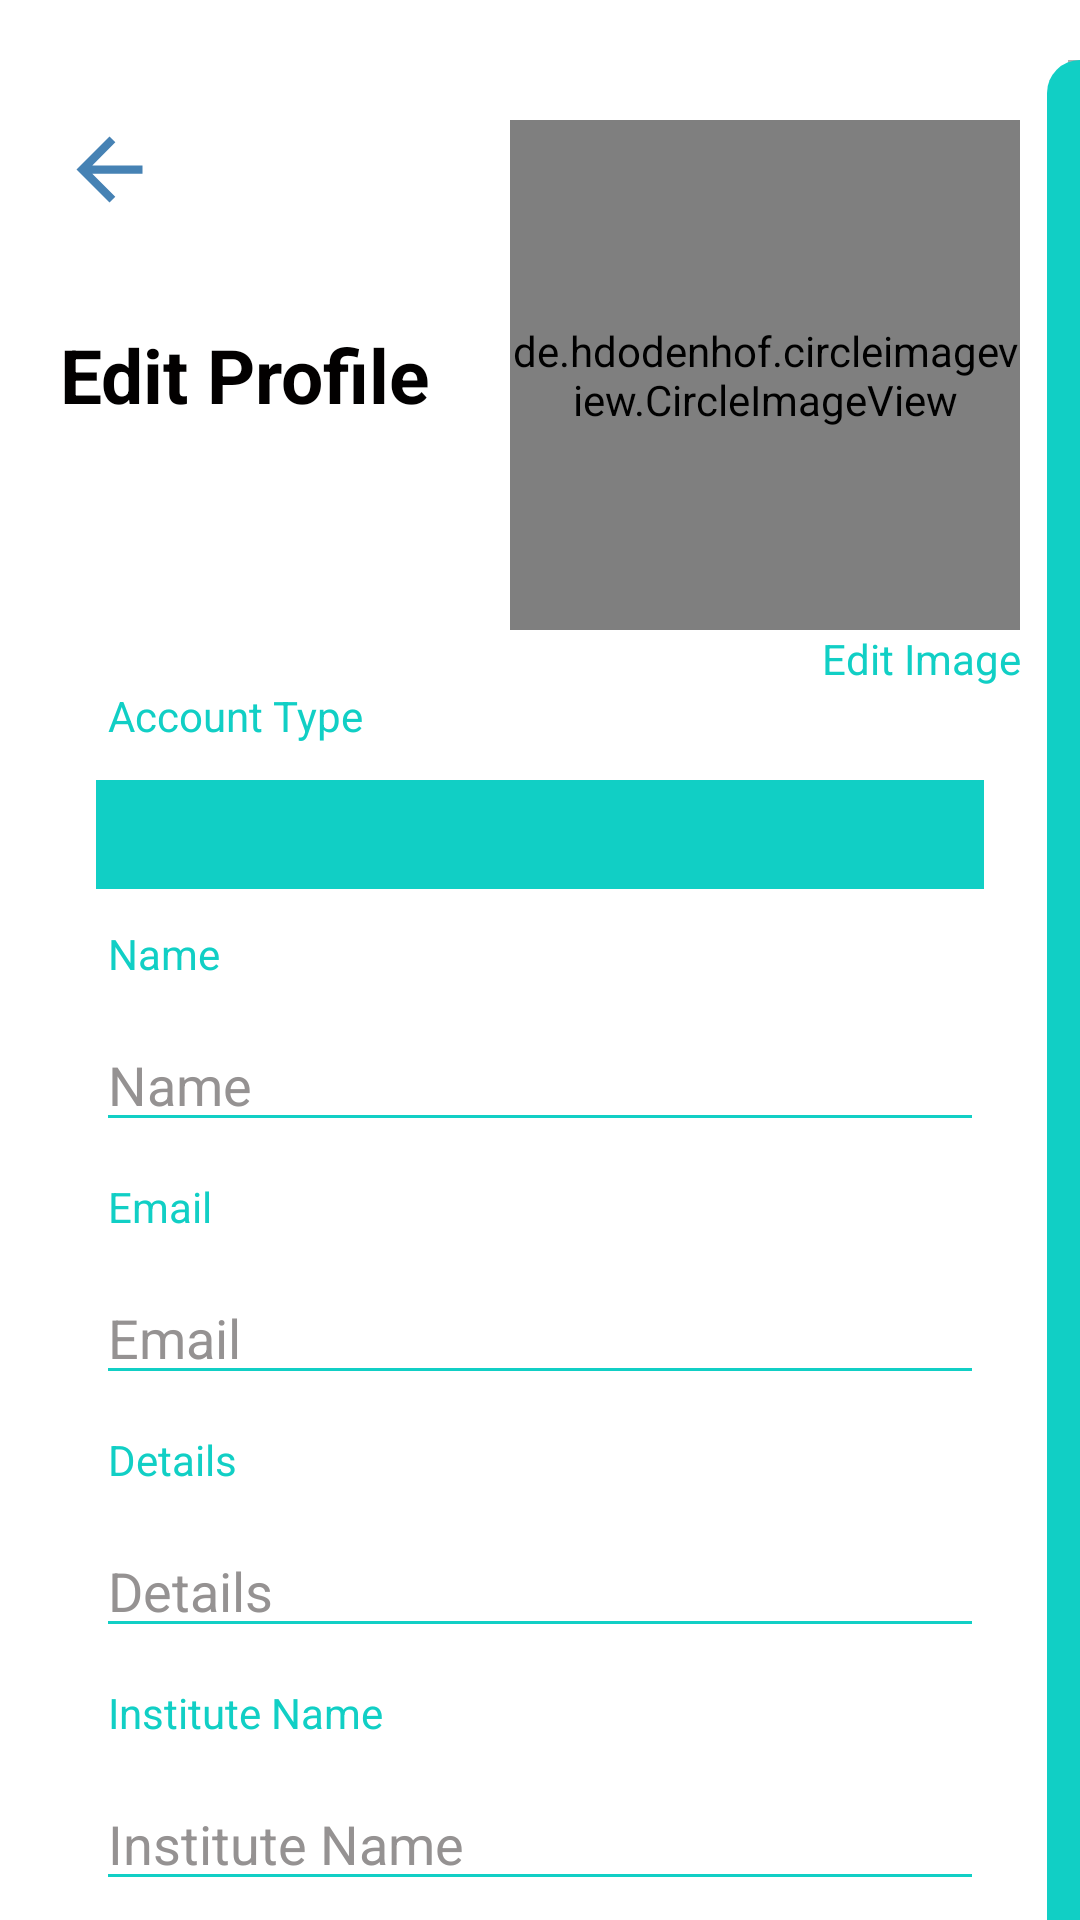

Icons on this 1080 × 1920 Android screen, each with its box as (x1, y1, x2, y2):
arrow back: (76, 136, 143, 203)
